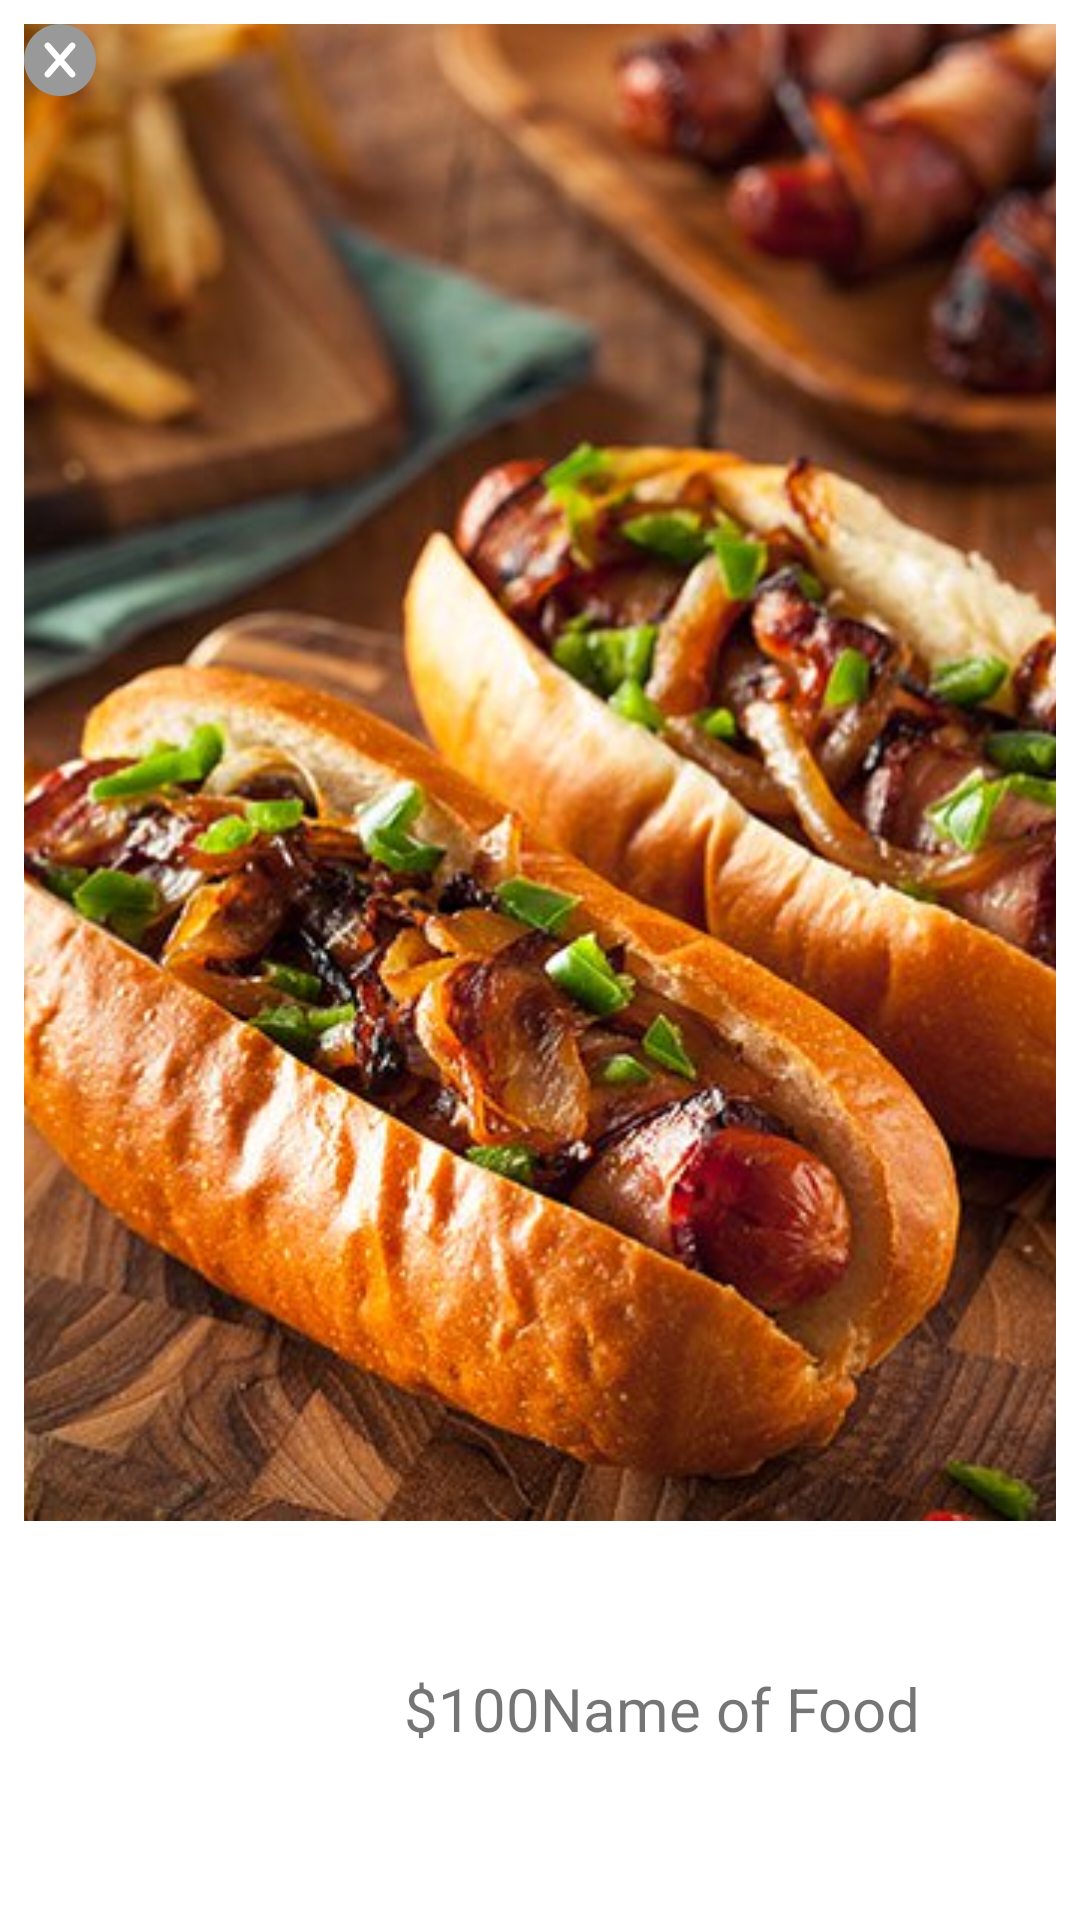

Point at icon controls on the screen. Image size 1080px×1920px, points as point (x, y).
cancel: point (60, 60)
